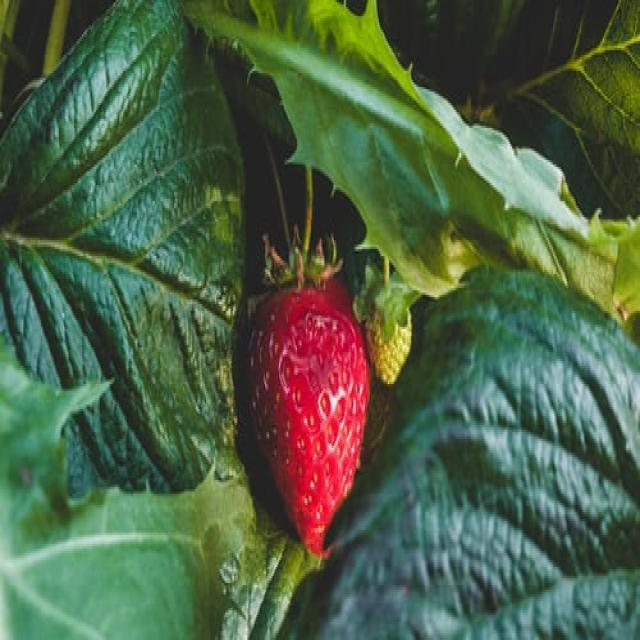ripe: (250, 280, 370, 557)
unripe: (366, 298, 410, 382)
